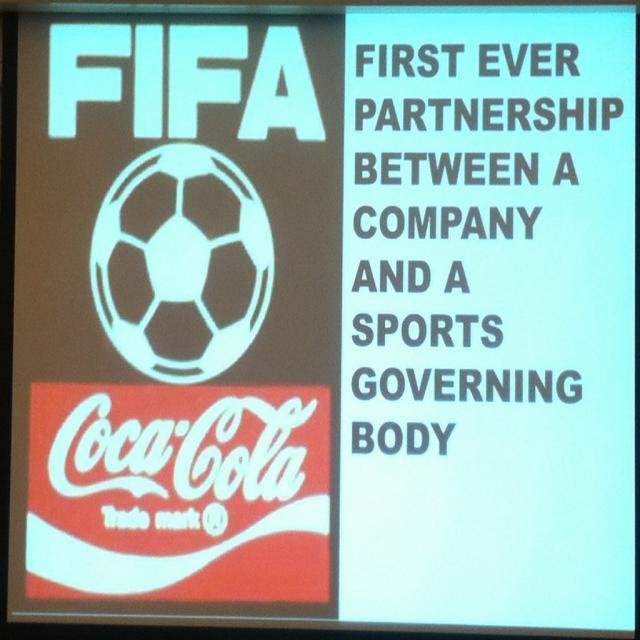ball: (88, 139, 275, 388)
